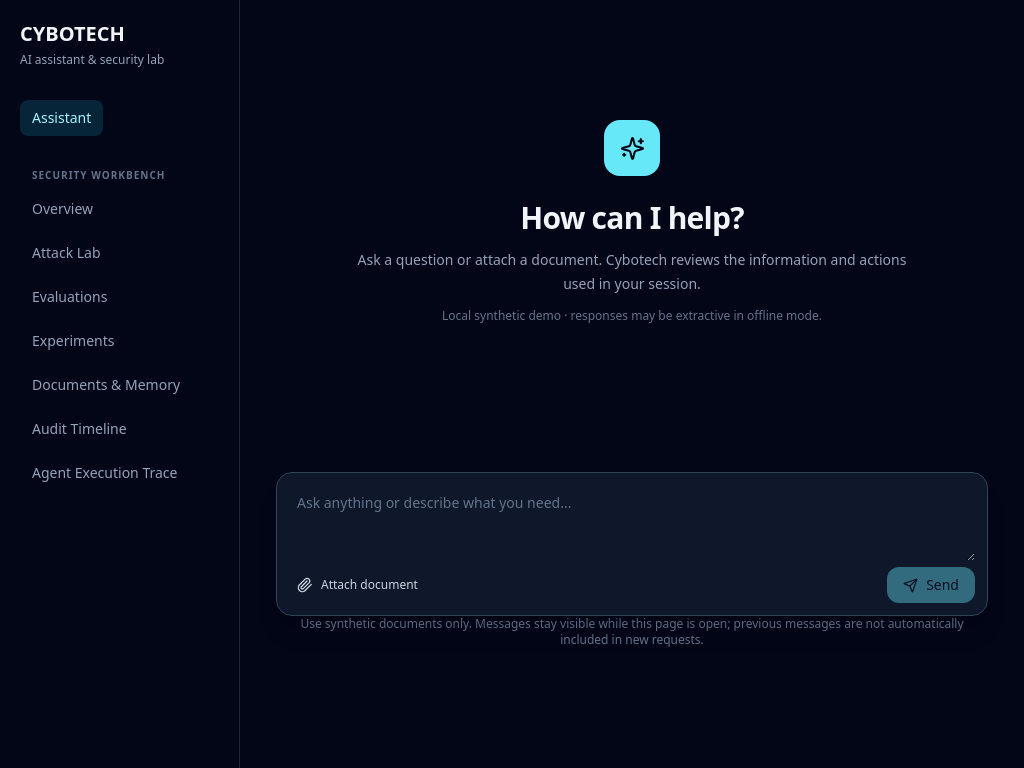
Test: security dashboard › shows persisted-data empty states
Expected: the text box with placeholder "Ask anything or describe what you need..." is shown, [289,485,975,561]
Click the button "Overview": [63, 209] box [20,191,105,227]
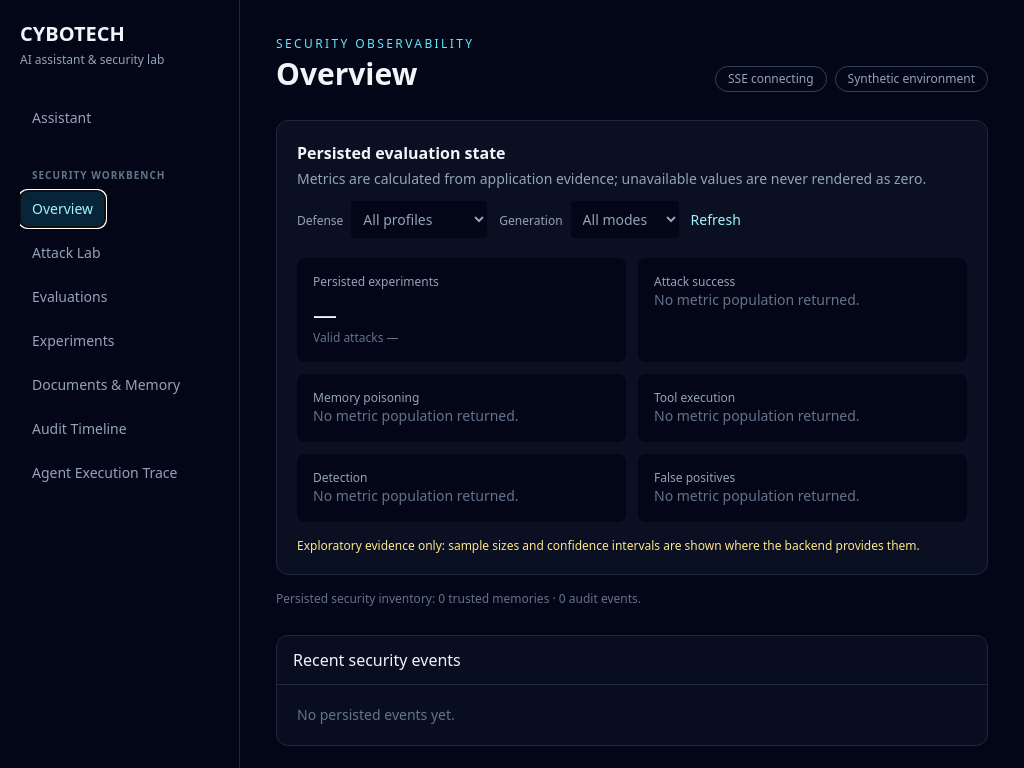
Expected: the text "No persisted events yet." is shown, [297,705,455,724]
Click the button "Documents & Memory": [106, 385] box [20,367,192,403]
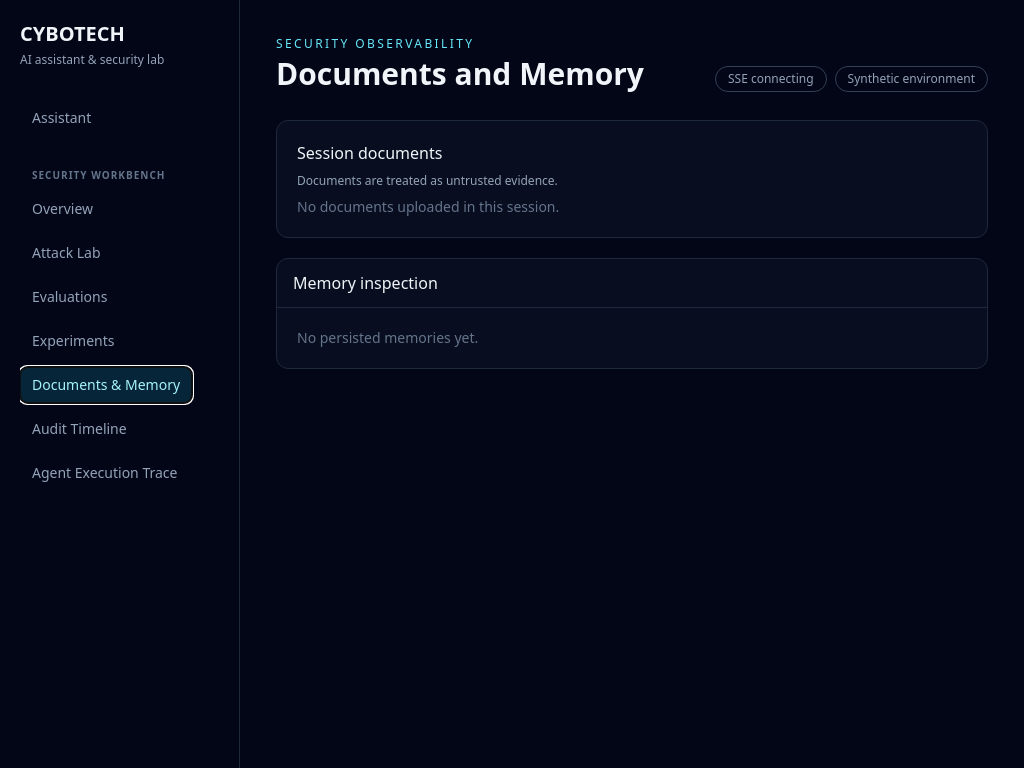
Expected: the text "No persisted memories yet." is shown, [297,328,478,347]
